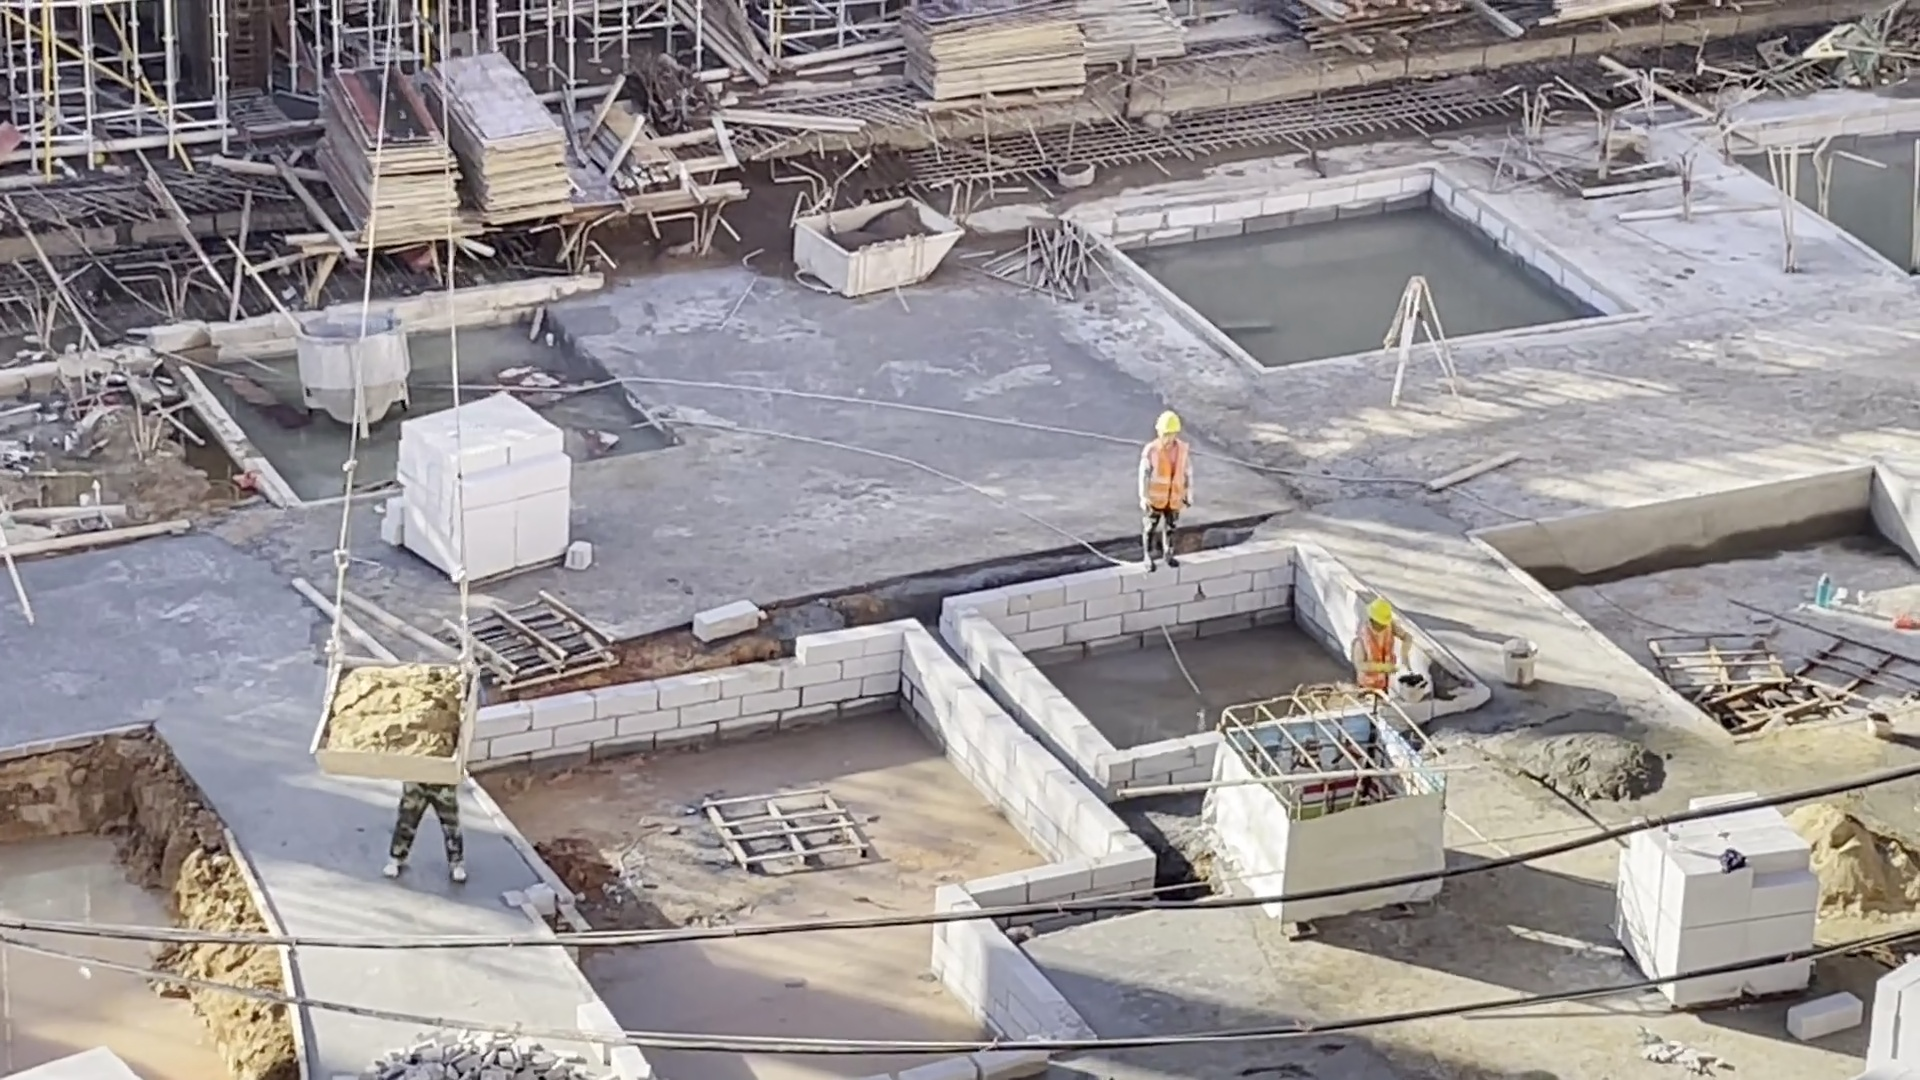board: (301, 63, 469, 248), (428, 50, 578, 230), (889, 2, 1091, 111)
brick: (390, 391, 578, 591), (1615, 838, 1819, 948)
helmet: (1366, 595, 1395, 629), (1153, 406, 1184, 436)
hopper: (302, 657, 487, 787), (771, 195, 966, 298), (292, 308, 410, 439)
person: (1129, 404, 1200, 572), (380, 783, 477, 885), (1349, 596, 1419, 697)
vest: (1143, 438, 1191, 509), (1353, 627, 1401, 690)
